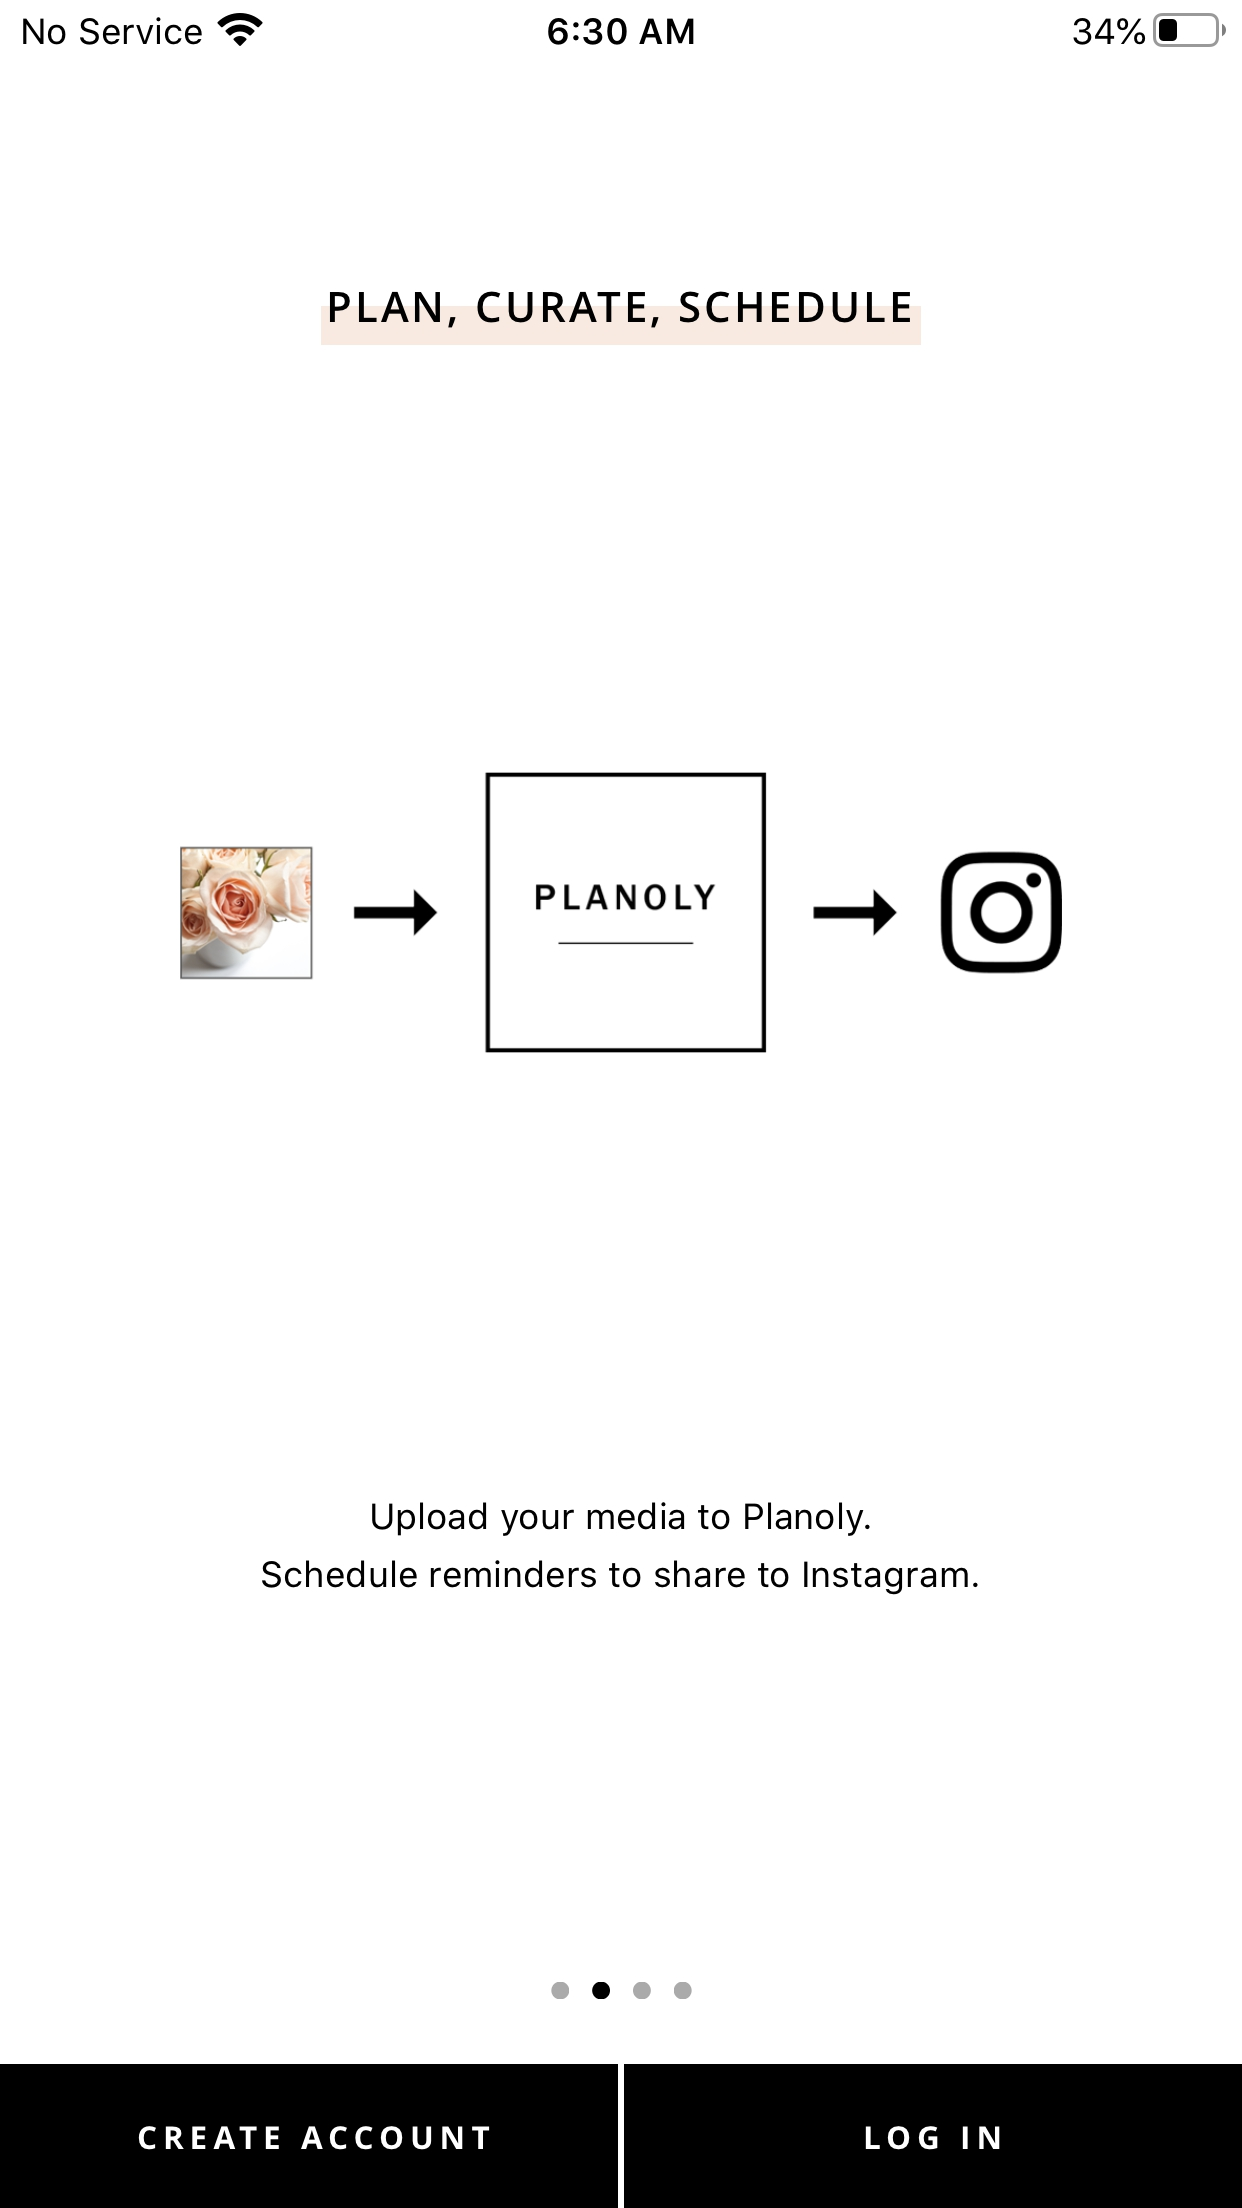Icon: (813, 889, 898, 936), (353, 889, 438, 936)
Image: (485, 772, 767, 1052), (180, 846, 312, 980), (942, 851, 1062, 974)
PageIndicator: (550, 1982, 692, 1999)
Text: (262, 1560, 978, 1595), (331, 291, 910, 328), (372, 1501, 870, 1536), (535, 884, 714, 910)
TextButton: (623, 2064, 1240, 2208), (2, 2064, 619, 2208)
UpperTaskBar: (2, 2, 1242, 49)
